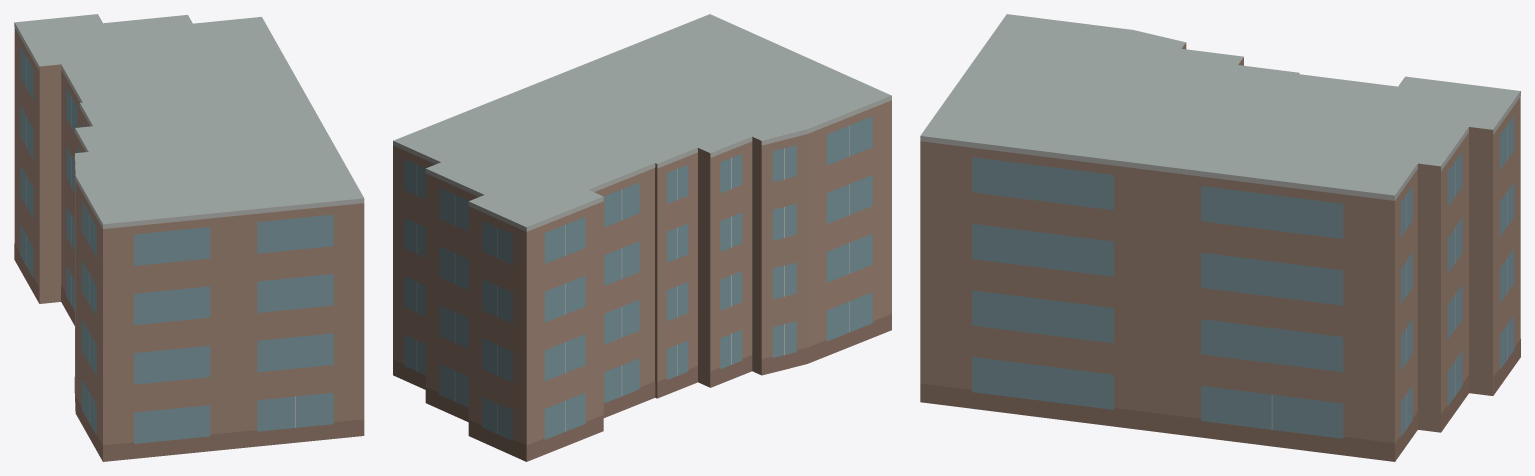
The model's file is survey-upis-32638732.glb.
3 views of the same model, side by side, from view 1: azimuth 30°, elevation 25°; view 2: azimuth 150°, elevation 25°; view 3: azimuth 270°, elevation 25° (orthographic). The views are drawn at different scales.
Visible parts, largest first — view 1: survey-upis-32638732.tmp; view 2: survey-upis-32638732.tmp; view 3: survey-upis-32638732.tmp.
Boxes of the visible parts, x1,y1,x2,y2 form: survey-upis-32638732.tmp: (14, 14, 364, 461); survey-upis-32638732.tmp: (393, 14, 891, 461); survey-upis-32638732.tmp: (920, 14, 1520, 461).
Bounding box in the file's own units: 17.85 × 12.2 × 24.94.
